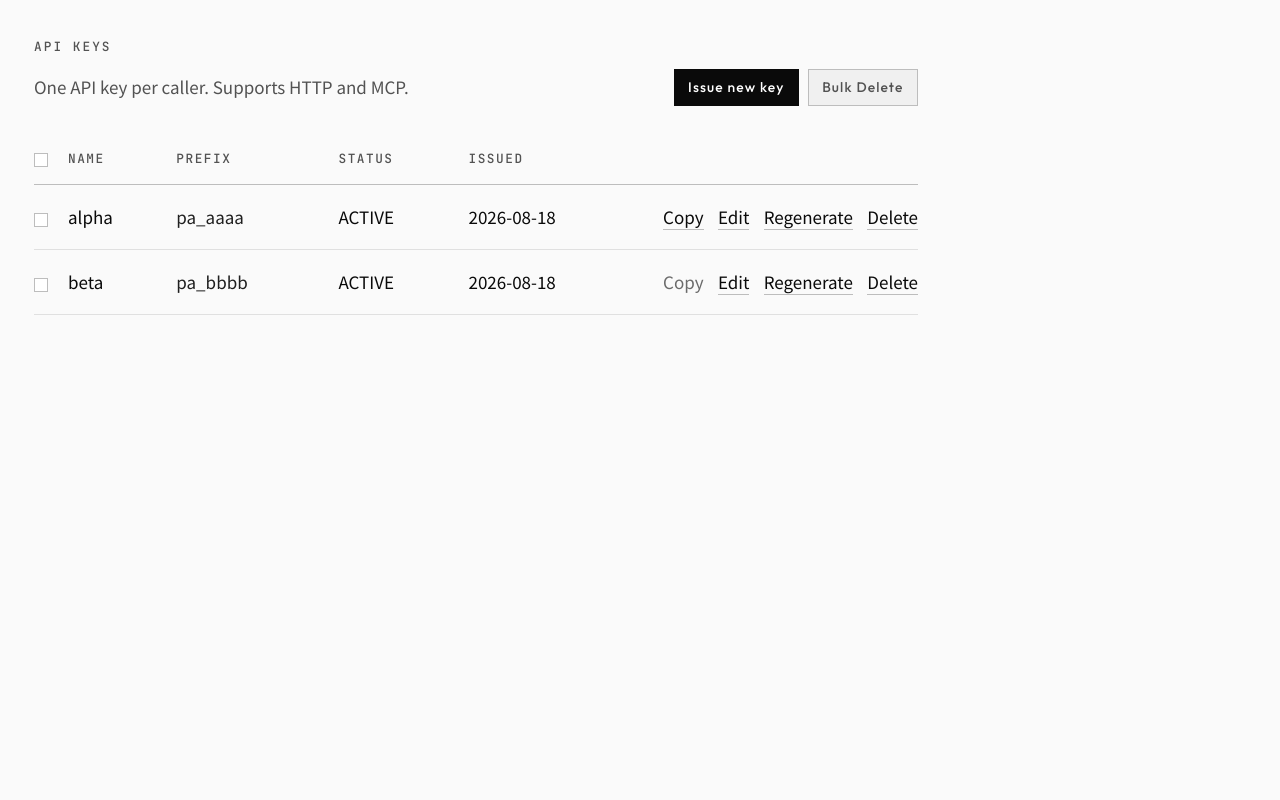
it: KeysScreen bulk select › should_open_confirm_dialog_with_count_key_when_delete_selected
Click the checkbox with test id "keys-select-alpha": (41, 220) [34, 213, 48, 227]
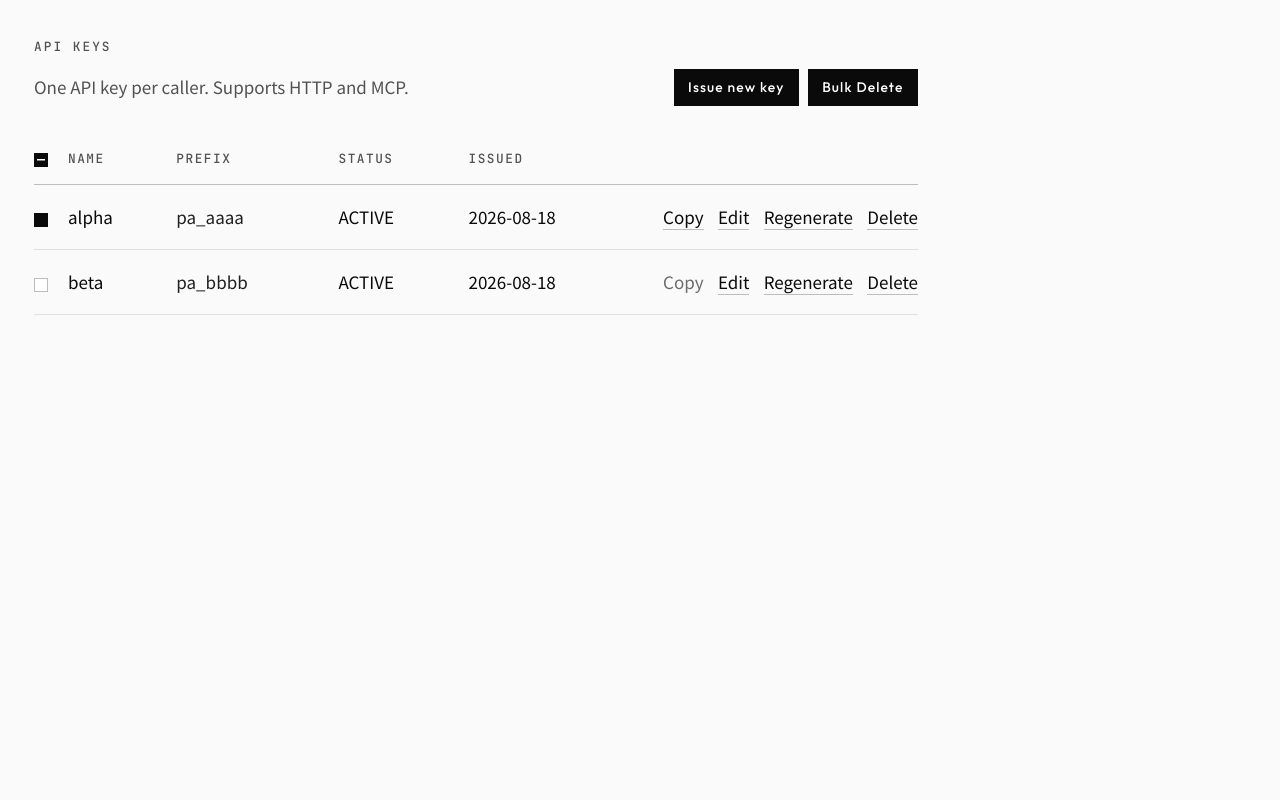
Click the button with test id "keys-delete-selected": (863, 88) [808, 70, 918, 106]
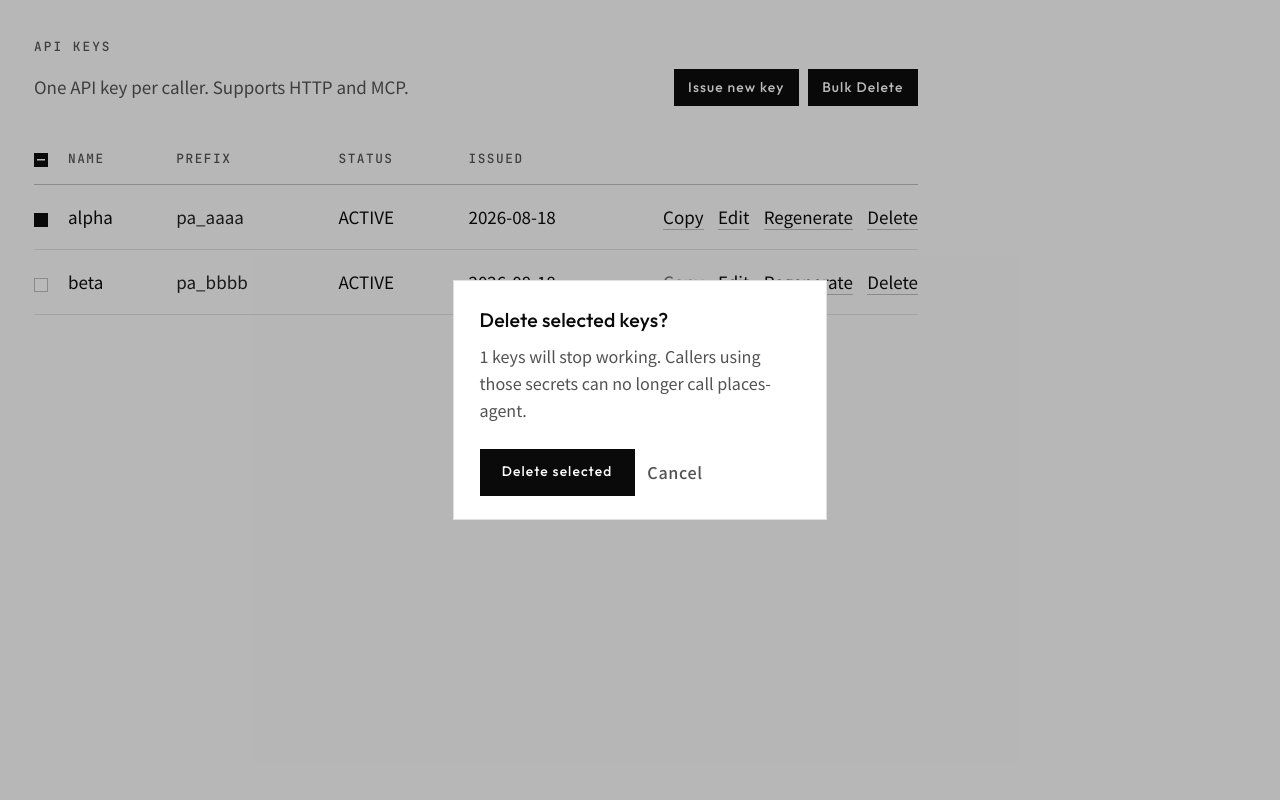
Expected: the dialog with class "is-open" is shown
